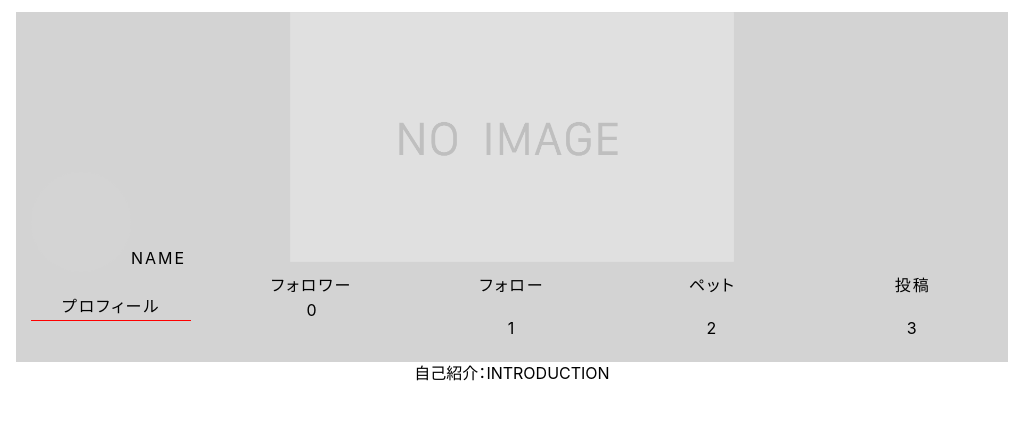
Rendering UserDetail › ユーザメニュークリック系 › フォロー
The image size is (1025, 435).
Click the text "フォロー" at (512, 285), box [479,275,545,295]
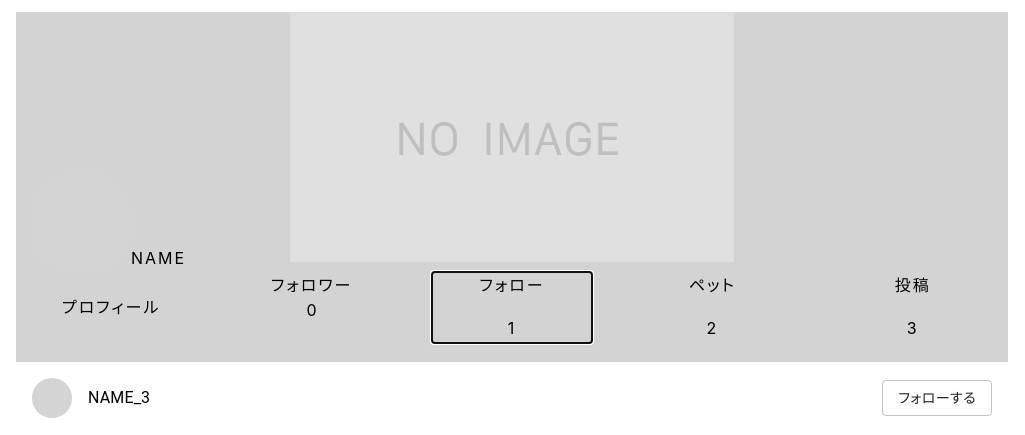
Expected: the text "NAME_3" is shown, [88,388,150,407]
